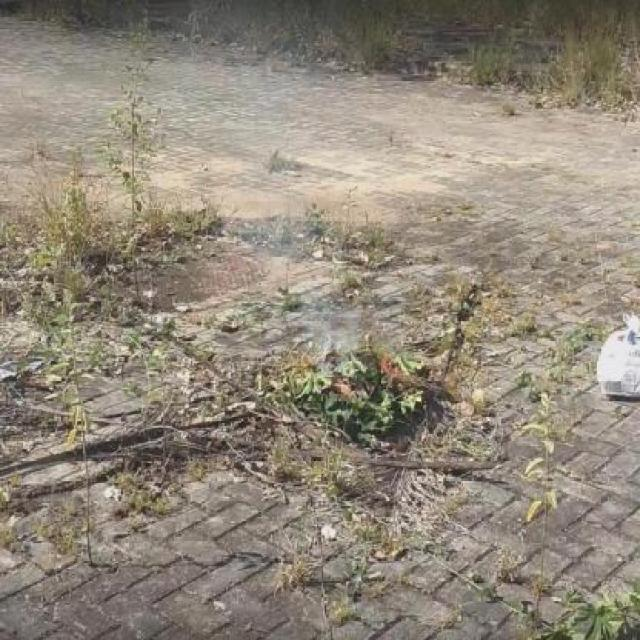Fire: (375, 343, 408, 382)
